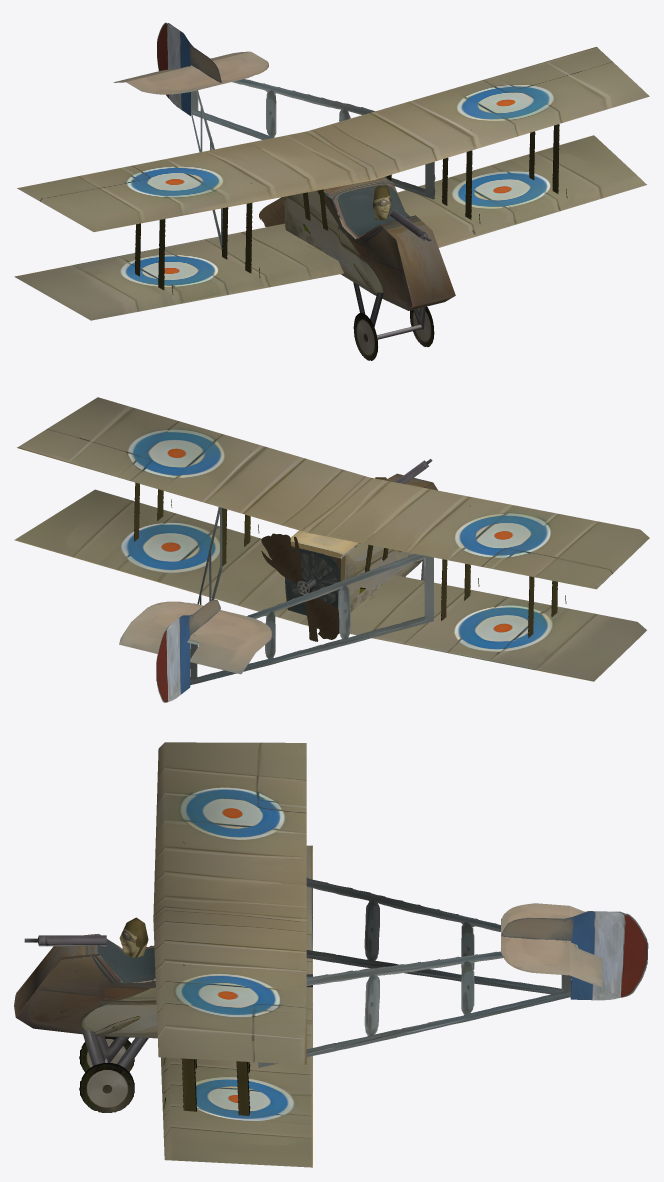
Rendered from aircodh2.gltf.
3 renders of one model, top to bottom at view 1: azimuth 30°, elevation 25°; view 2: azimuth 150°, elevation 25°; view 3: azimuth 270°, elevation 25°, orthographic. The views are drawn at different scales.
Visible parts, largest first — view 1: aircodh2_atomic1, aircodh2_atomic0; view 2: aircodh2_atomic1, aircodh2_atomic0; view 3: aircodh2_atomic1.
Part boxes in pixels (left/top/right/bottom): aircodh2_atomic1: left=14, top=22, right=649, bottom=360; aircodh2_atomic0: left=259, top=197, right=285, bottom=226; aircodh2_atomic1: left=14, top=397, right=649, bottom=702; aircodh2_atomic0: left=261, top=533, right=339, bottom=641; aircodh2_atomic1: left=14, top=742, right=648, bottom=1167.
Bounding box in the file's own units: 25.65 × 7.63 × 21.41.
Materials: 5 (5 with a texture image).
